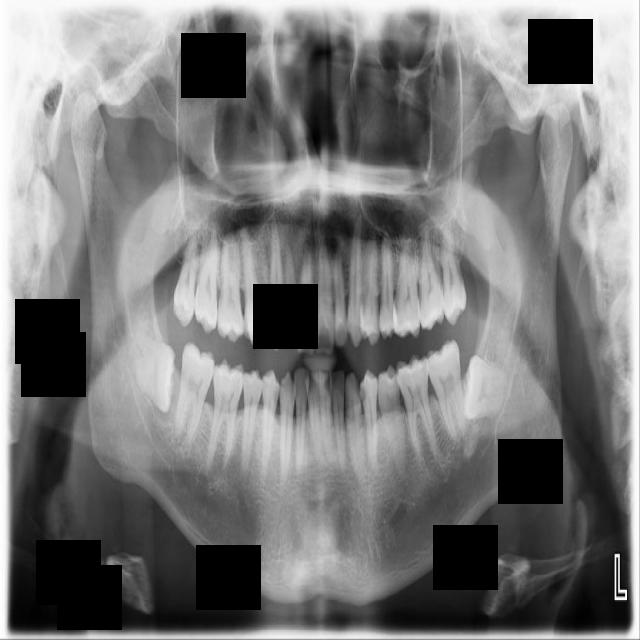3M ESPE Implant: (172, 238, 199, 329)
73: (608, 564, 614, 572)
BioHorizons Implant: (415, 218, 446, 331)
BioLife Implant: (438, 220, 468, 327)
Biomet 3i Implant: (451, 354, 518, 430)
Blue Sky Bio Implant: (423, 338, 469, 445)
Caries: (194, 219, 219, 335)
Implant: (172, 341, 217, 449)
Keystone Dental Implant: (121, 328, 179, 413)
